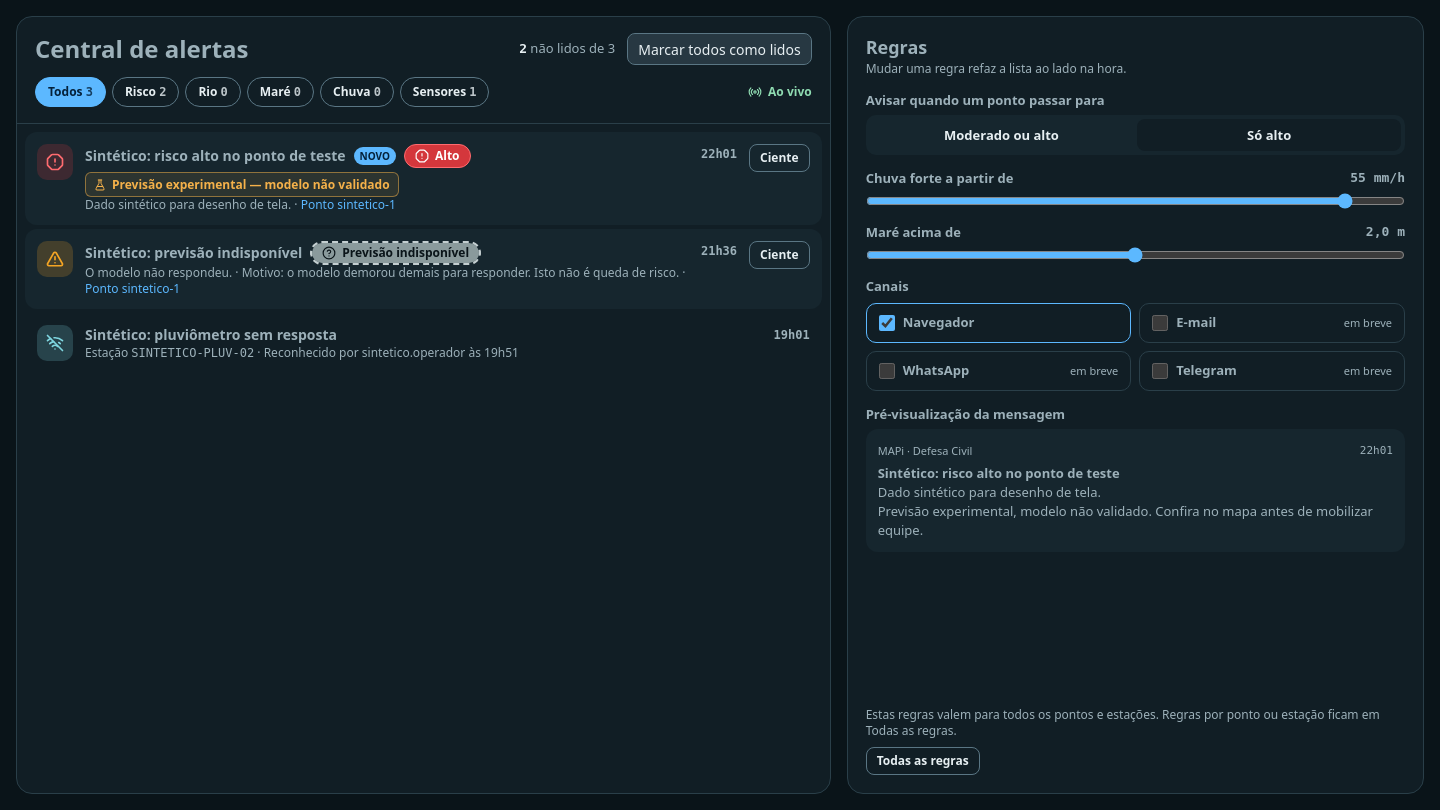
Test: AlertsPage: alertas › 403 no ack explica permissão/sessão
Expected: the text "Sintético: risco alto no ponto de teste" next to "NOVO" is shown, 85,146 -> 346,165
Click the button "Ciente" in the row of "NOVO".
click(779, 158)  # box 749,144 -> 810,172
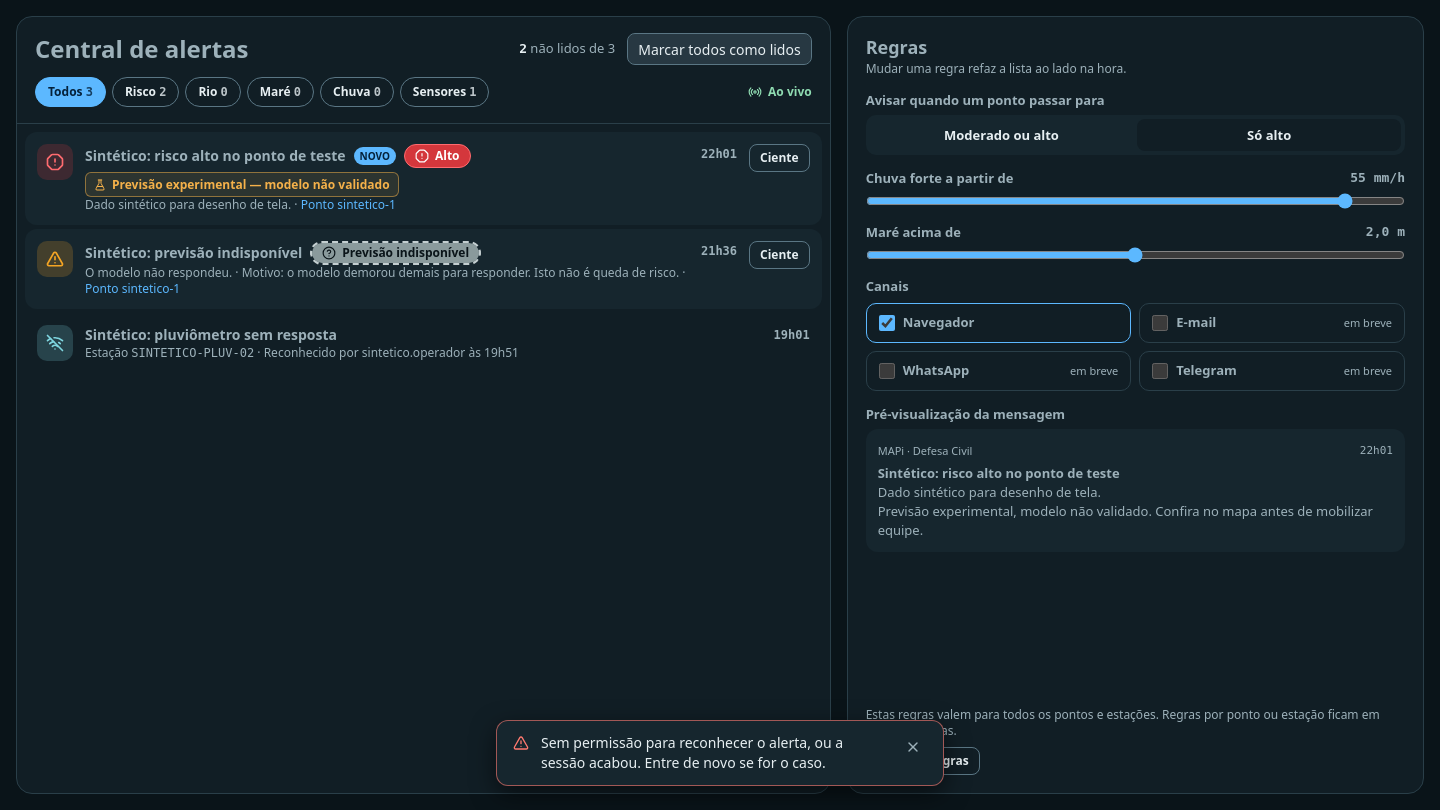
Expected: the text "Sem permissão para reconhecer o alerta" is shown, 541,733 -> 843,772
